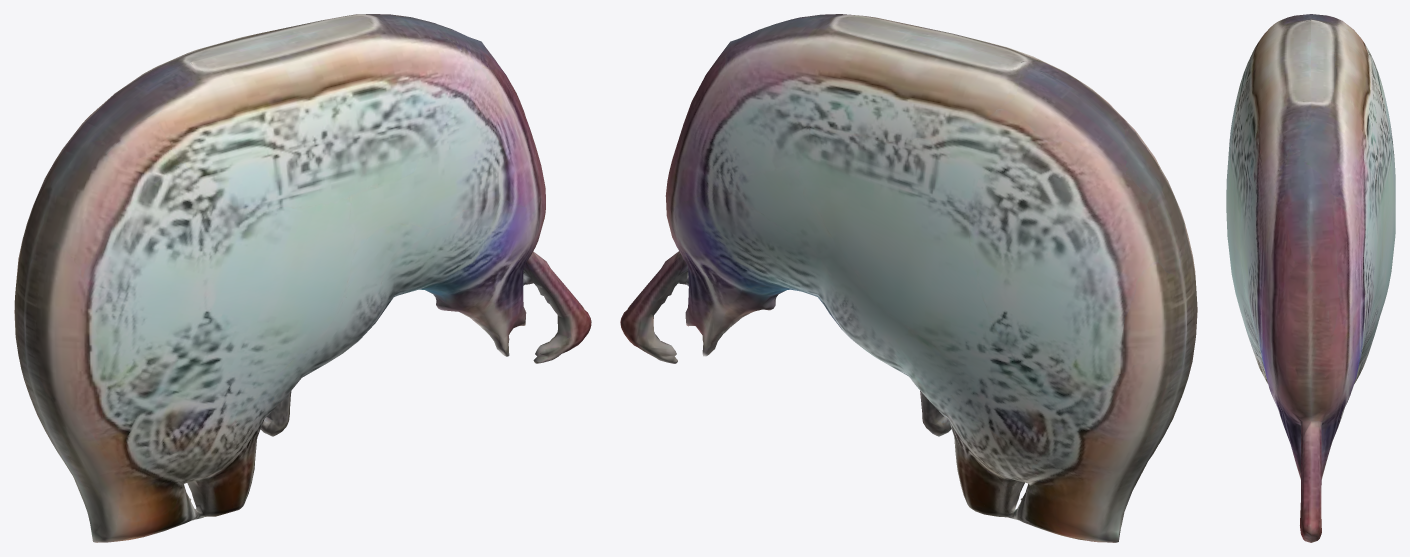
File: brain.glb
3 views of the same model, side by side, from view 1: azimuth 30°, elevation 25°; view 2: azimuth 150°, elevation 25°; view 3: azimuth 270°, elevation 25° (orthographic). The views are drawn at different scales.
Parts seen in each view (by area): view 1: node_0; view 2: node_0; view 3: node_0.
Part boxes in pixels (x1=…): node_0: x1=14, y1=14, x2=591, y2=542; node_0: x1=620, y1=14, x2=1197, y2=542; node_0: x1=1226, y1=14, x2=1395, y2=542.
Size of the model in its own units: 1.1 by 0.8511 by 0.3072.
Materials: 1 (1 with a texture image).
